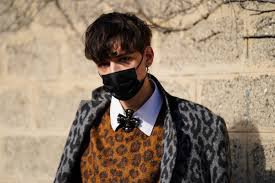mask: (79, 11, 158, 102)
